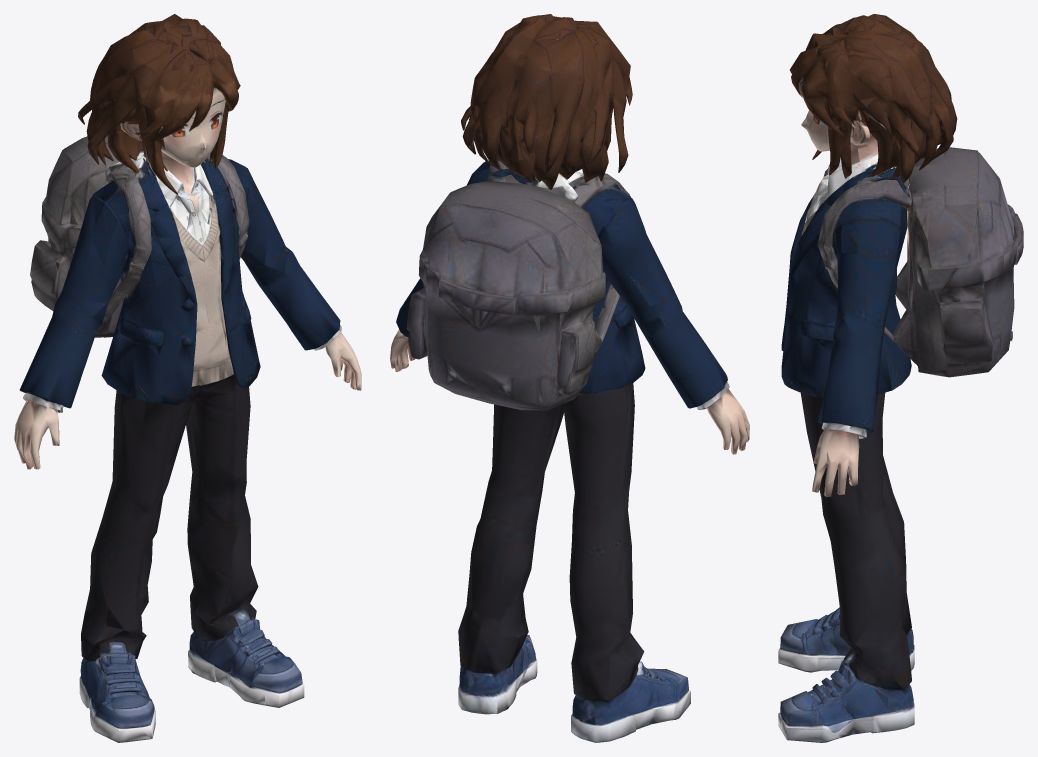
File: preparedness_model.glb
3 renders of one model, left to right at view 1: azimuth 30°, elevation 25°; view 2: azimuth 150°, elevation 25°; view 3: azimuth 270°, elevation 25°, orthographic. The views are drawn at different scales.
Size of the model in its own units: 1.05 by 2 by 0.659.
Materials: 1 (1 with a texture image).
